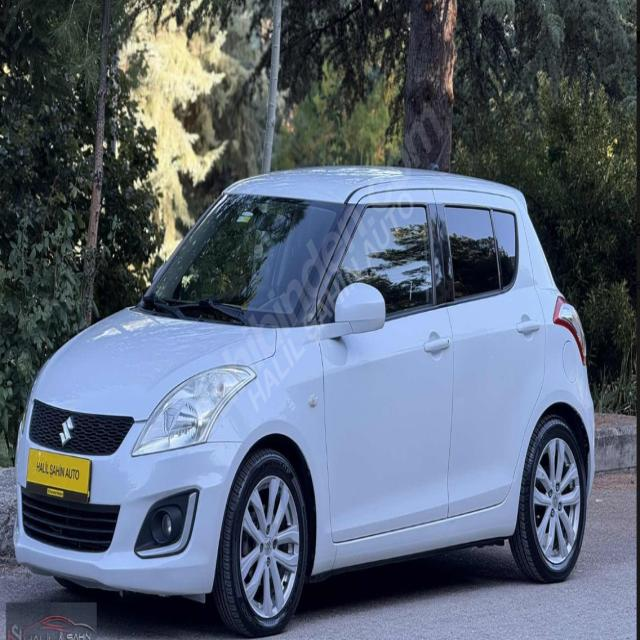suzuki: (59, 412, 76, 449)
